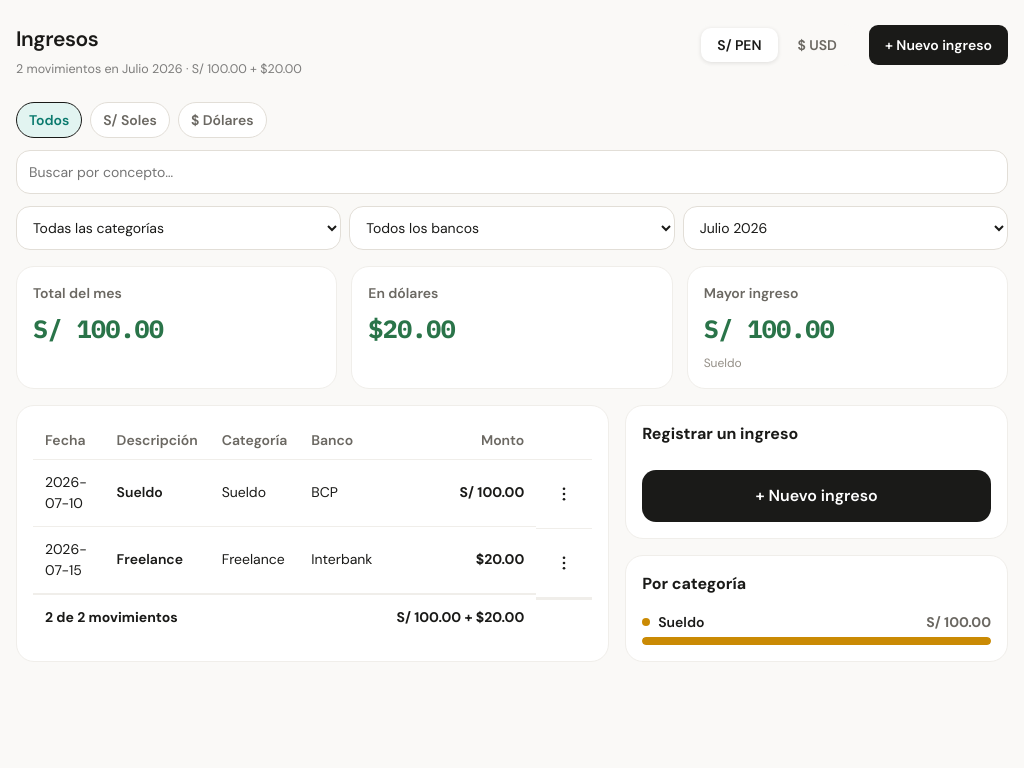
Test: IngresosView — tabla, filtros y stat cards (rediseño "Caudal", Fase 2) › estado vacío por filtro: hay ingresos en total, pero el filtro activo no encuentra ninguno
Note: Julio (mes por defecto) + banco Interbank + moneda "S/ Soles": Freelance es USD, ninguna fila cumple ambas.
Click the button with class "chip-moneda" showing "S/ Soles": (130,120) [90,102,170,138]
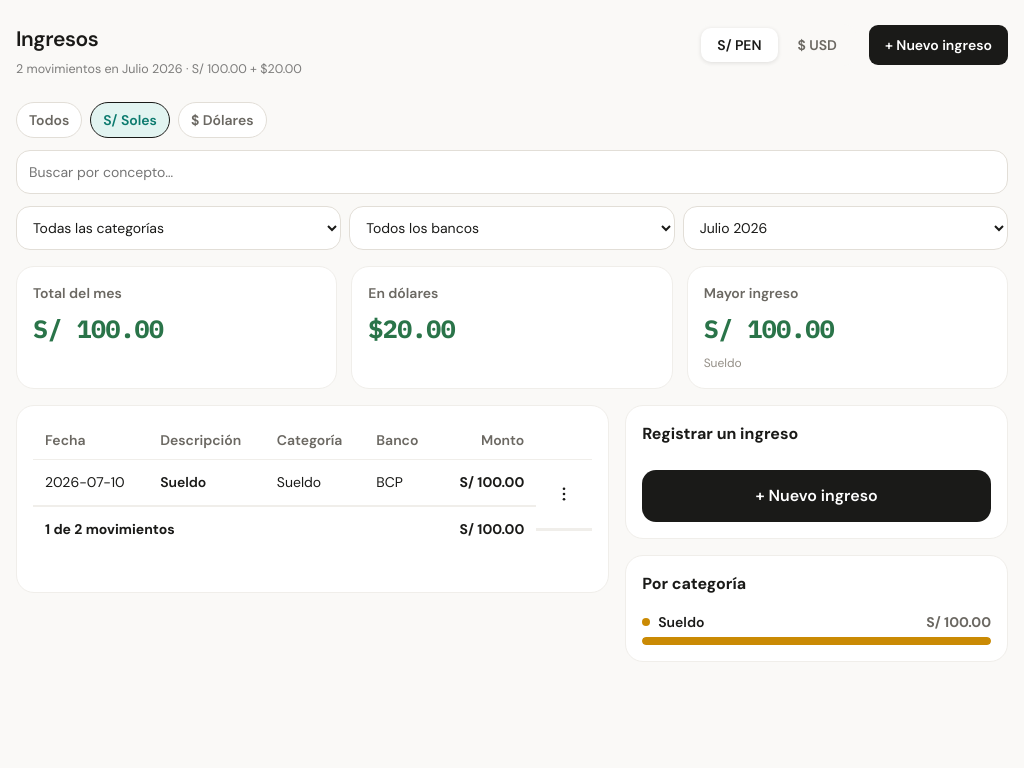
Select "Interbank" in the dropdown named "Filtrar por banco": (512,228) [349,206,675,250]
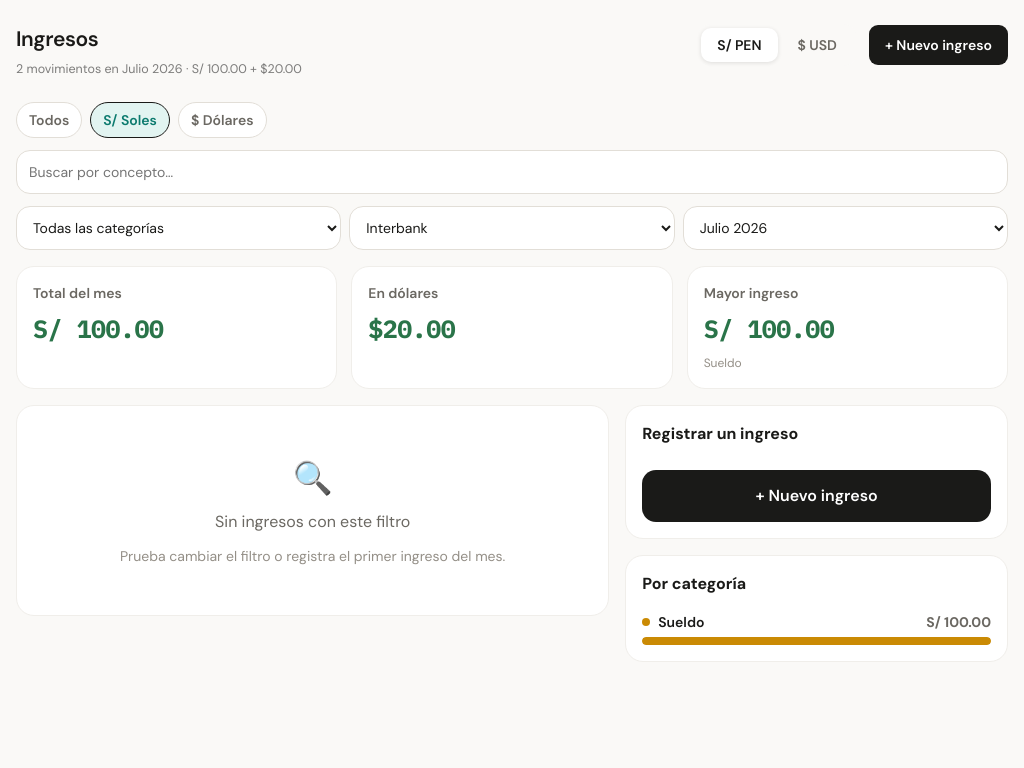
Now no rows are shown
Now the element with class "estado-vacio-filtro" is shown, box [120,457,505,565]
Now the text "Sin ingresos con este filtro" is shown, box [215,511,410,532]
